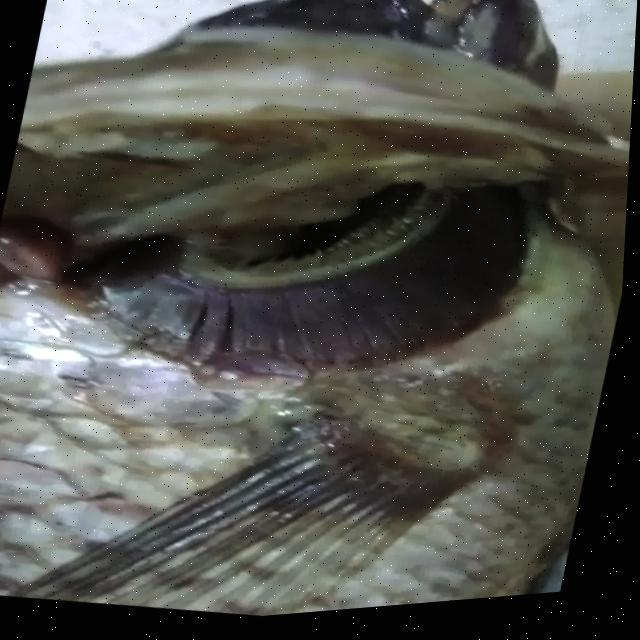Non-Fresh: (63, 130, 571, 449)
